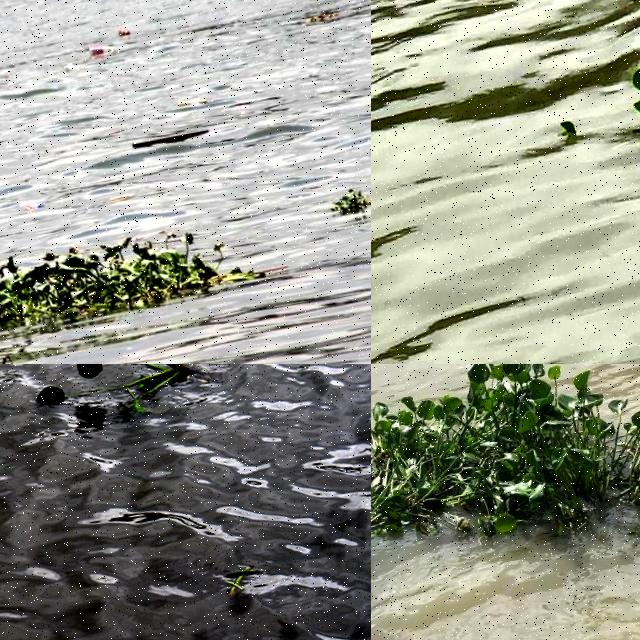water-hyacinth: (372, 365, 640, 585), (1, 214, 253, 343), (17, 365, 203, 427), (327, 182, 372, 226)
